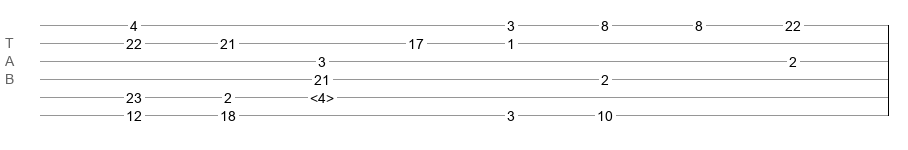1: (507, 36, 515, 46)
10: (597, 108, 613, 118)
12: (126, 108, 142, 118)
17: (408, 36, 424, 46)
18: (220, 108, 236, 118)
2: (224, 90, 232, 100), (601, 72, 609, 82), (789, 54, 797, 64)
21: (220, 36, 236, 46), (314, 72, 330, 82)
22: (126, 36, 142, 46), (785, 18, 801, 28)
23: (126, 90, 142, 100)
3: (318, 54, 326, 64), (507, 18, 515, 28), (507, 108, 515, 118)
4: (130, 18, 138, 28)
8: (601, 18, 609, 28), (695, 18, 703, 28)
harmonic: (310, 90, 334, 100)
